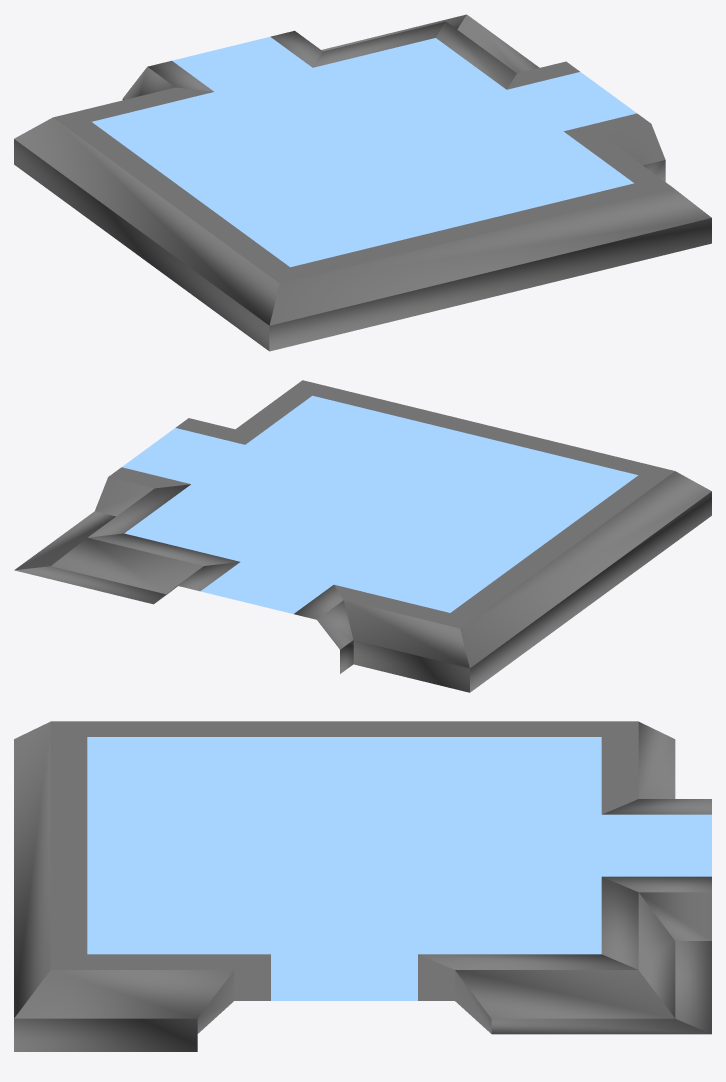
The model's file is barrierCorner.glb.
3 renders of one model, top to bottom at view 1: azimuth 30°, elevation 25°; view 2: azimuth 150°, elevation 25°; view 3: azimuth 270°, elevation 25°, orthographic. The views are drawn at different scales.
Visible parts, largest first — view 1: Filler, Frame; view 2: Filler, Frame; view 3: Filler, Frame.
Boxes of the visible parts, box(x1,y1,x2,y2) form: Filler: box(92, 37, 636, 267); Frame: box(14, 14, 711, 351); Filler: box(122, 395, 638, 613); Frame: box(14, 380, 711, 692); Filler: box(87, 737, 711, 1000); Frame: box(14, 721, 711, 1051).
Size of what is drawn, in the model's own units: 1.9 by 0.2 by 1.9.
